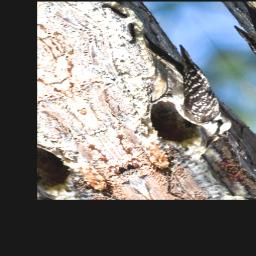Woodpecker: (104, 21, 256, 158)
